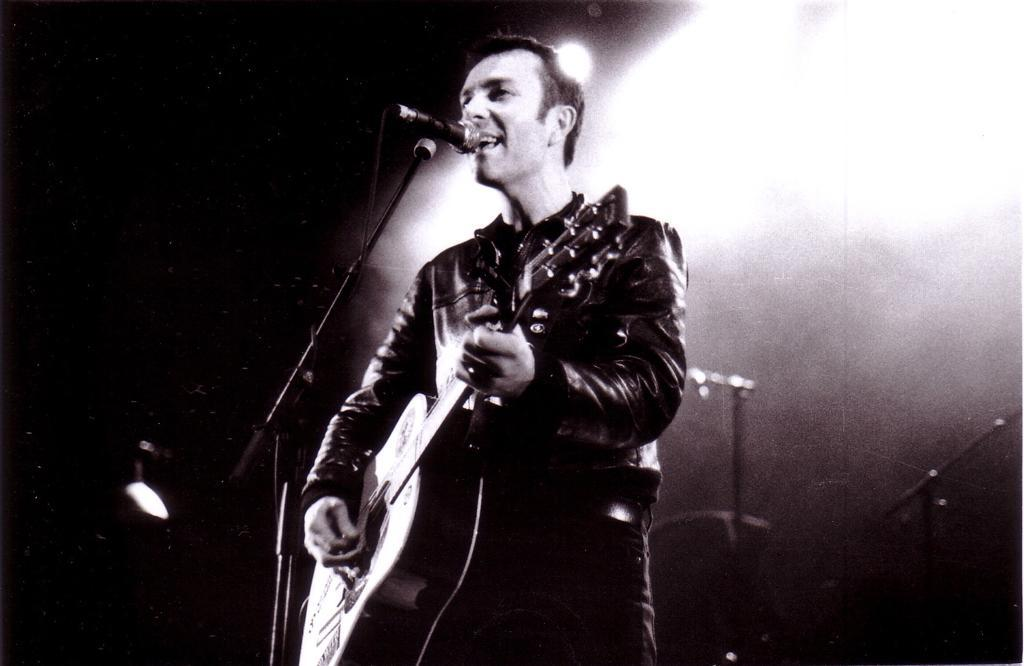face: (463, 51, 549, 183)
